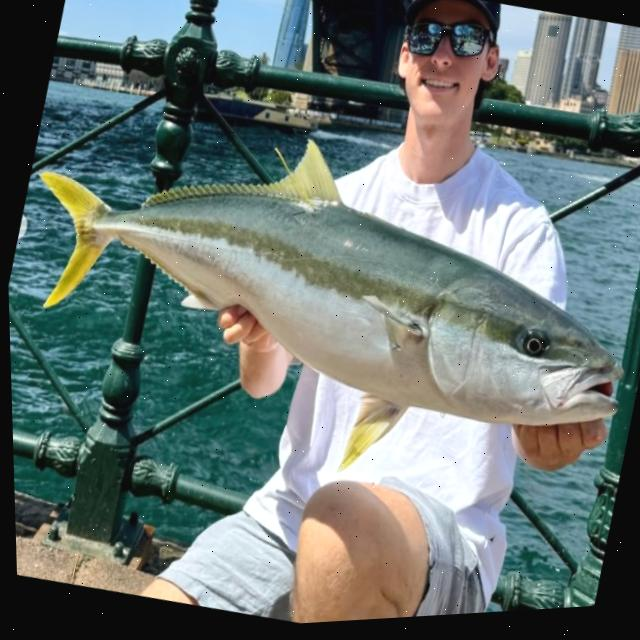Kingfish: (2, 62, 640, 556)
